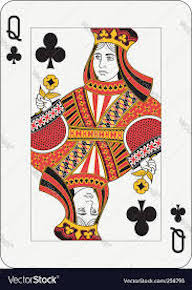QueenOfClubs: (1, 3, 192, 266)
